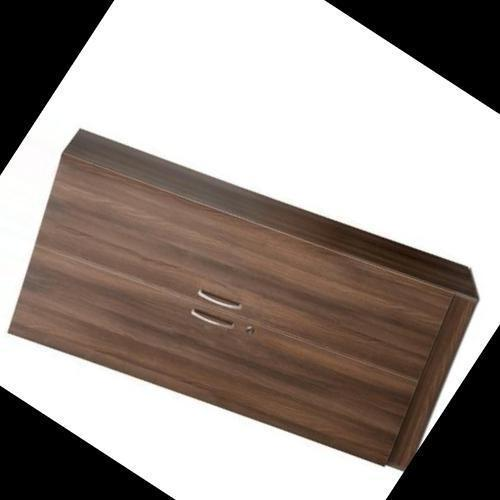Armario: (0, 40, 500, 500)
